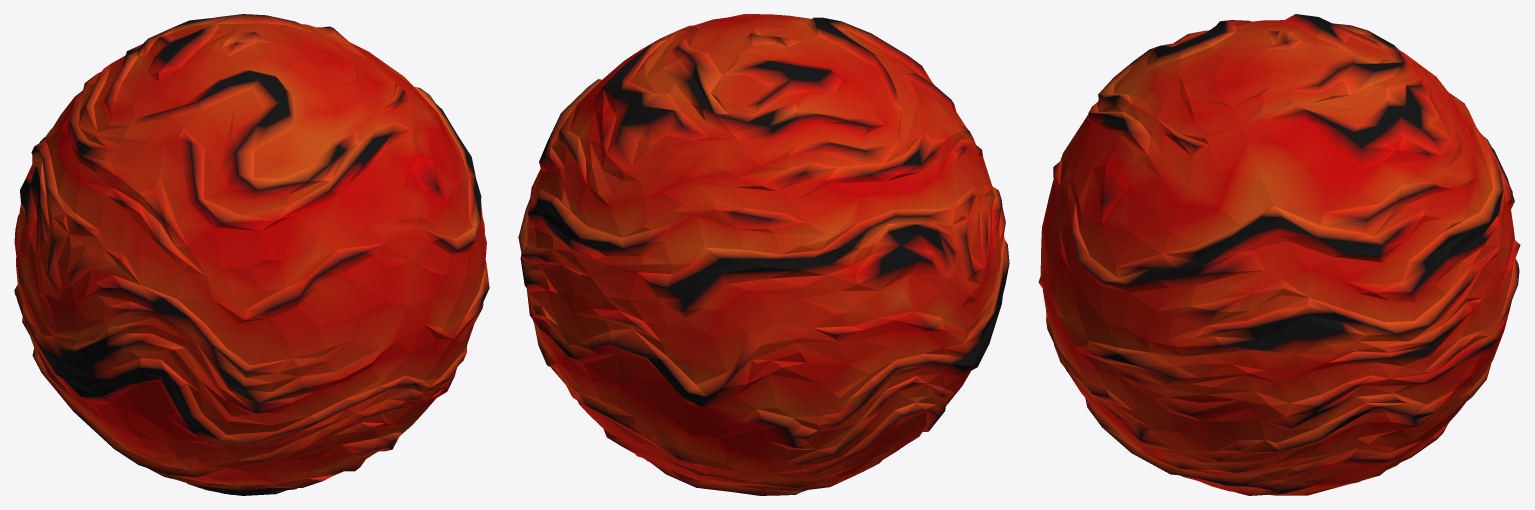
Rendered from volcanic_planet_7.fbx.
3 renders of one model, left to right at view 1: azimuth 30°, elevation 25°; view 2: azimuth 150°, elevation 25°; view 3: azimuth 270°, elevation 25°, orthographic.
Visible parts, largest first — view 1: filecache2; view 2: filecache2; view 3: filecache2.
Part boxes in pixels (x1,y1,x2,y2): filecache2: (14,14,489,495); filecache2: (518,14,1009,495); filecache2: (1038,14,1520,495).
Size of the model in its own units: 2.03 by 2.04 by 2.03.
